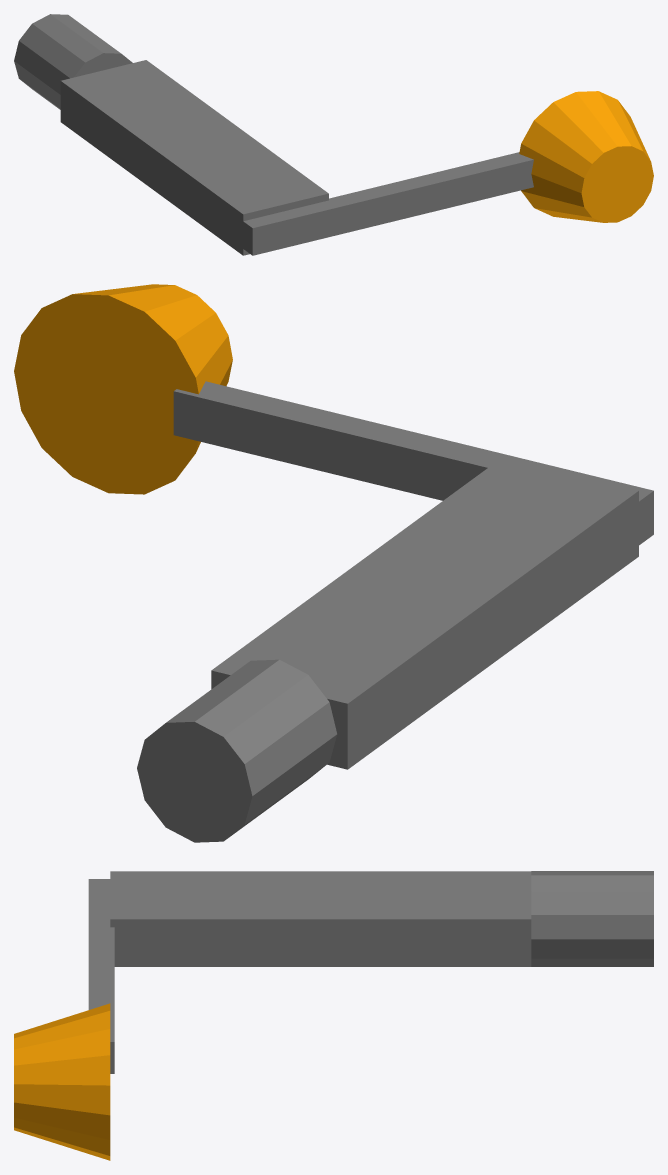
The model's file is nil_link_mesh.dae.
3 renders of one model, top to bottom at view 1: azimuth 30°, elevation 25°; view 2: azimuth 150°, elevation 25°; view 3: azimuth 270°, elevation 25°, orthographic. The views are drawn at different scales.
Parts seen in each view (by area): view 1: nil_link (×4); view 2: nil_link (×4); view 3: nil_link (×4).
Boxes of the visible parts, x1,y1,x2,y2 form: nil_link (×4): (14, 14, 653, 255); nil_link (×4): (14, 284, 653, 842); nil_link (×4): (14, 871, 653, 1160).
Size of the model in its own units: 0.595 by 0.18 by 0.73.
